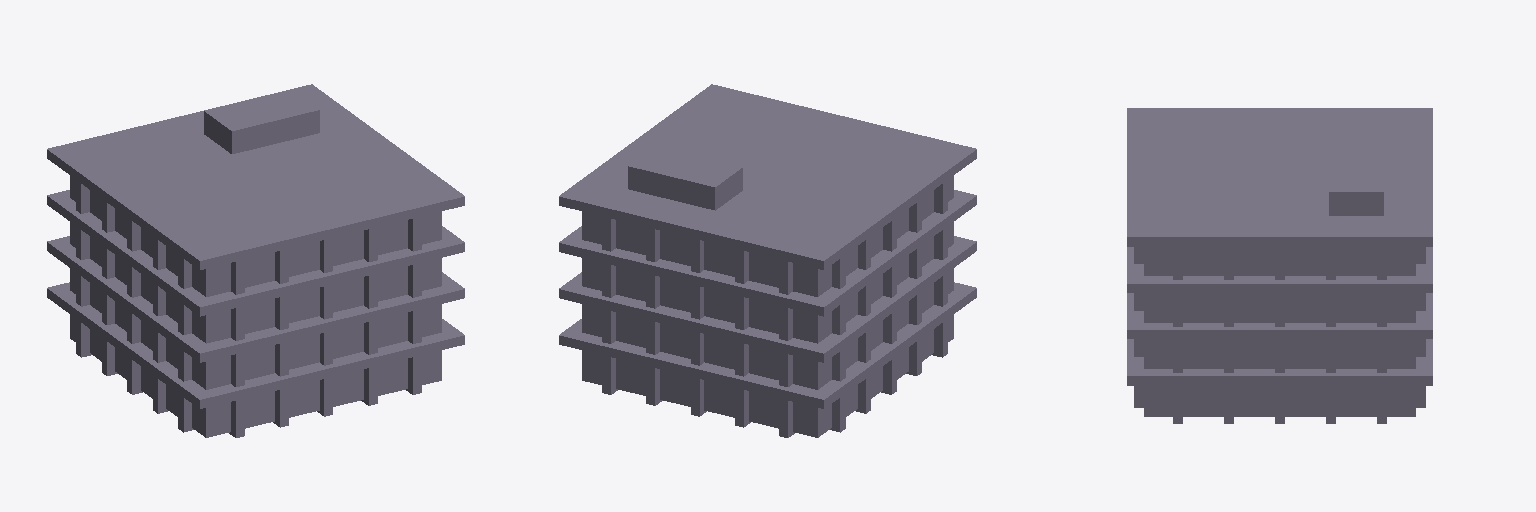
The model's file is building-office-small_modified.obj.
3 renders of one model, left to right at view 1: azimuth 30°, elevation 25°; view 2: azimuth 150°, elevation 25°; view 3: azimuth 270°, elevation 25°, orthographic.
Parts seen in each view (by area): view 1: building-office-small_Cube.130; view 2: building-office-small_Cube.130; view 3: building-office-small_Cube.130.
Part boxes in pixels (bbox=[...]): building-office-small_Cube.130: bbox=[47, 84, 464, 437]; building-office-small_Cube.130: bbox=[559, 84, 976, 437]; building-office-small_Cube.130: bbox=[1127, 108, 1432, 423].
Size of the model in its own units: 6 by 4.6 by 6.